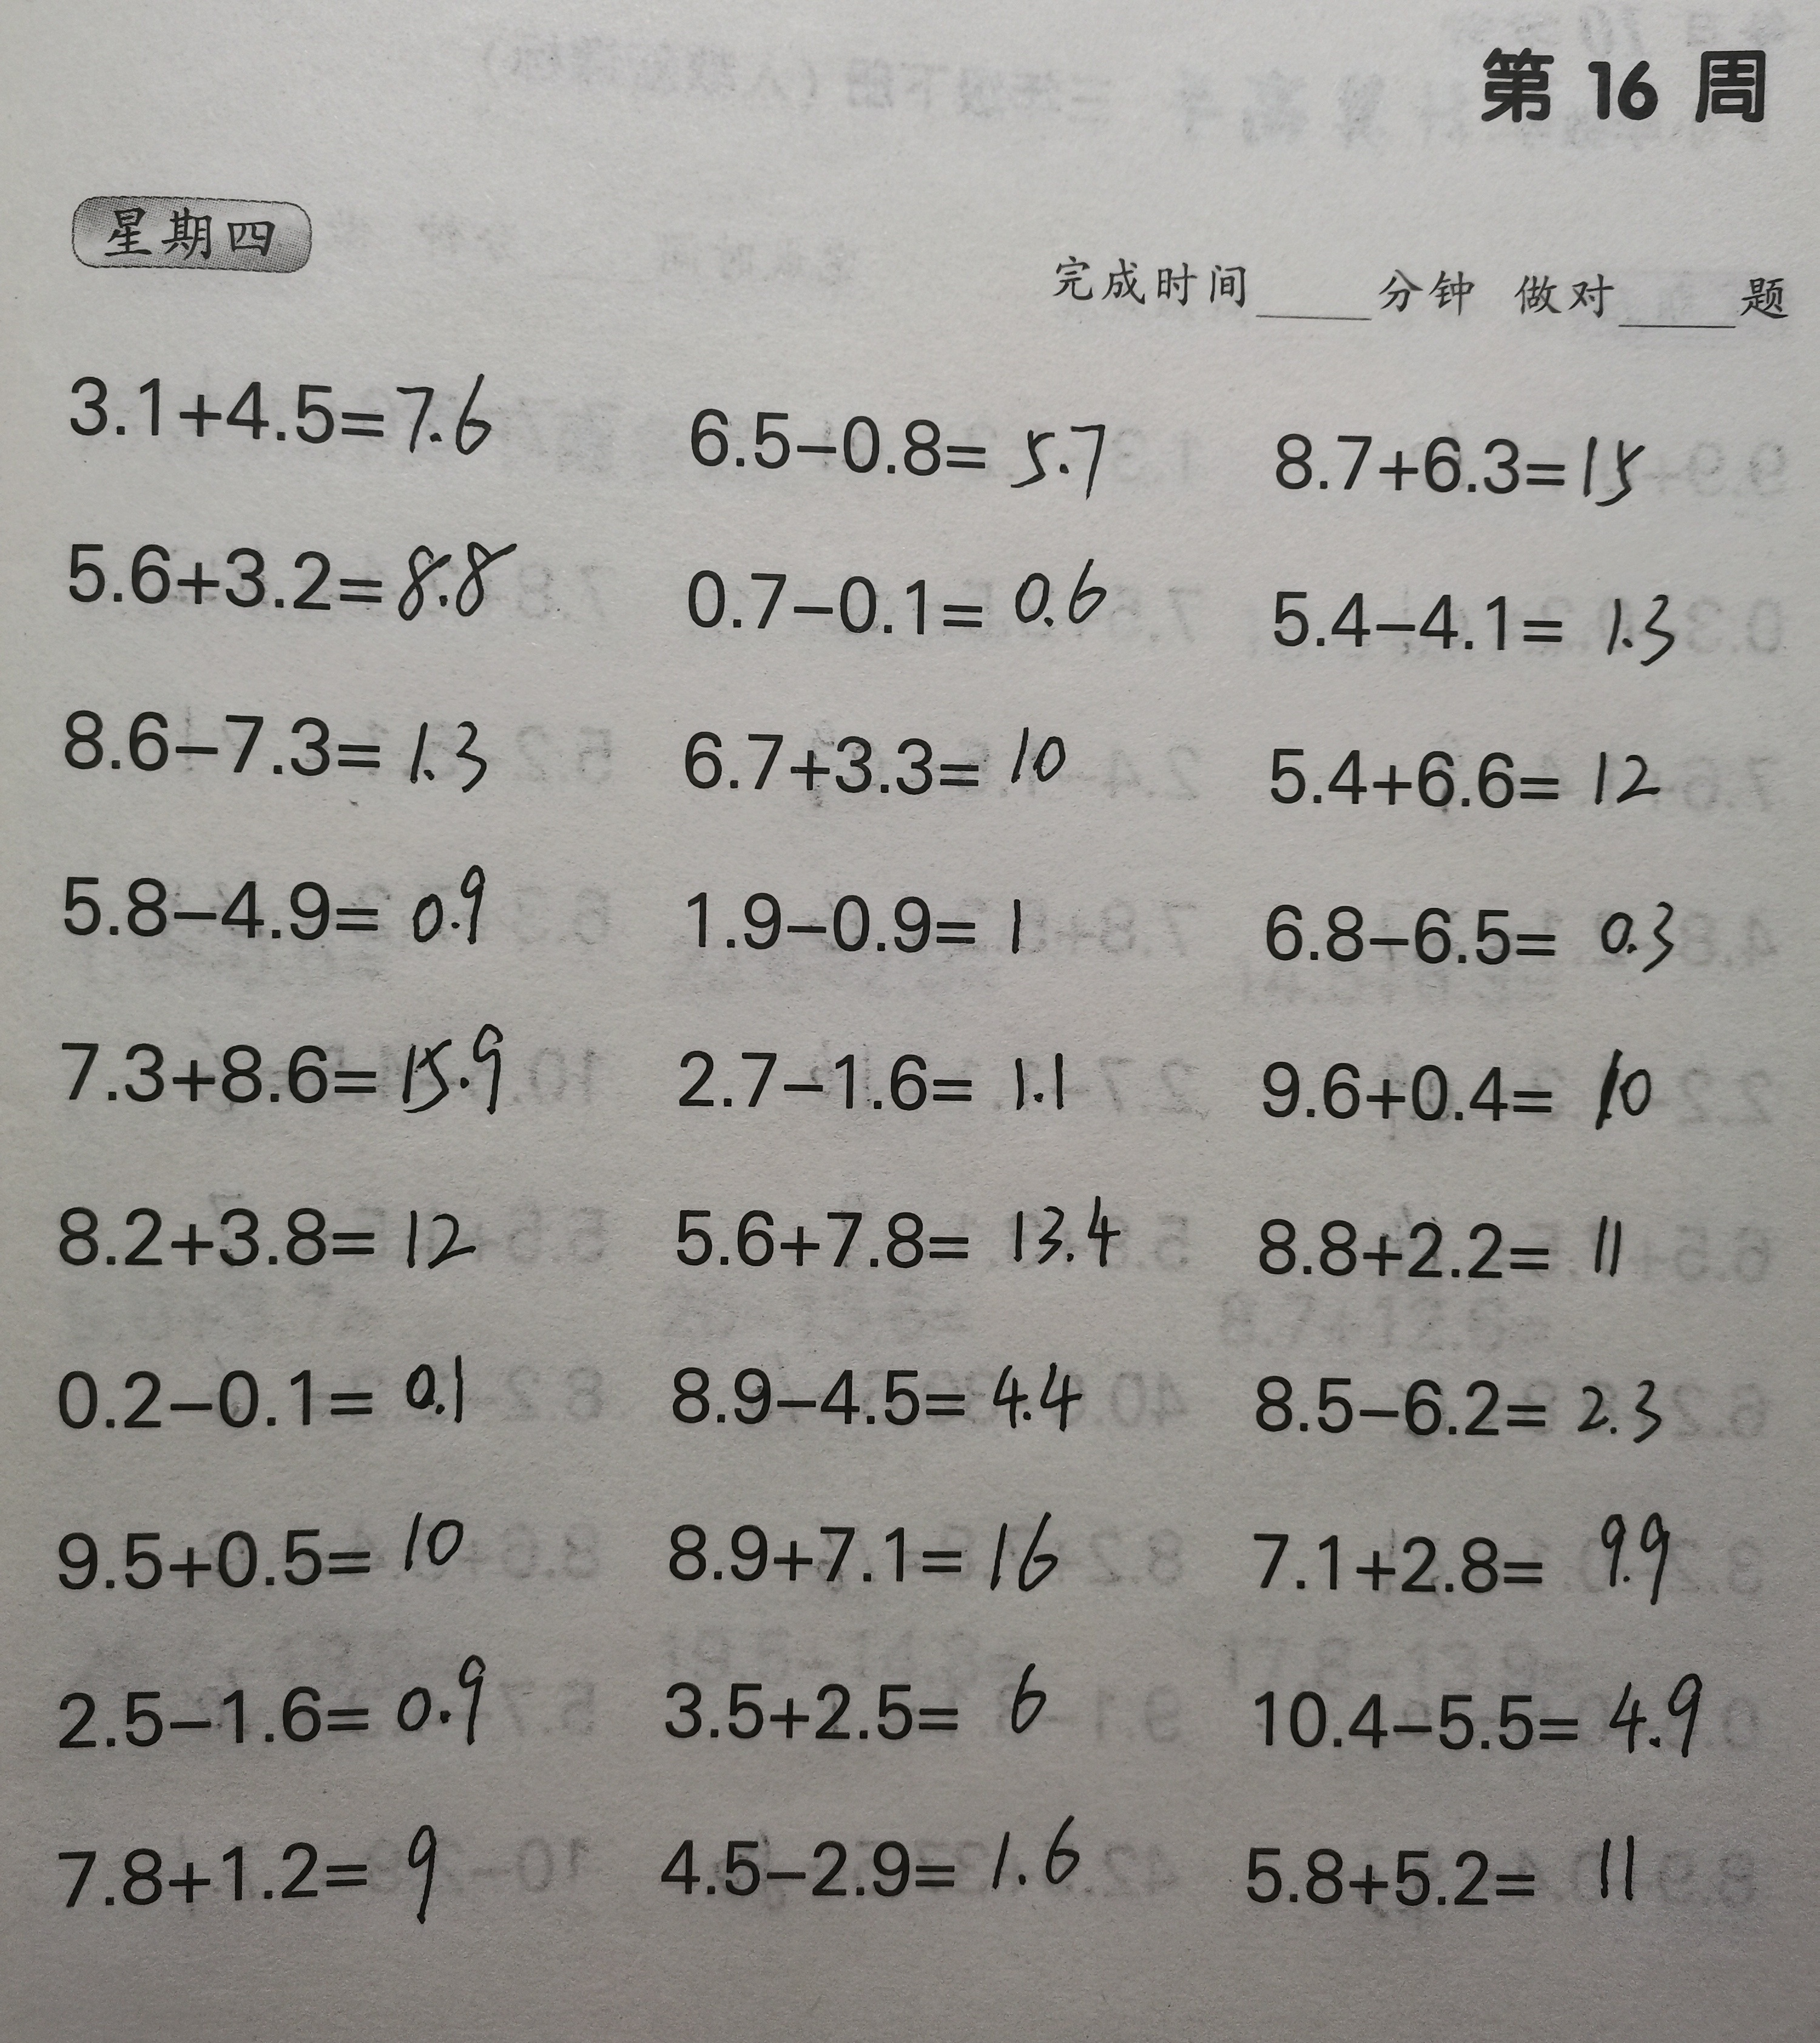equation: (1223, 1483, 1704, 1614), (641, 1794, 1107, 1929), (37, 1010, 522, 1137), (1219, 1655, 1736, 1771), (35, 341, 518, 464), (51, 506, 515, 631), (657, 1170, 1138, 1289), (44, 1809, 453, 1943), (668, 381, 1117, 502), (657, 1332, 1107, 1451), (30, 1333, 481, 1451), (1235, 1346, 1697, 1460), (643, 1493, 1089, 1611), (1260, 559, 1697, 678), (51, 689, 513, 801), (47, 841, 497, 956), (1246, 1024, 1683, 1140), (659, 1021, 1098, 1135), (44, 1642, 504, 1751), (35, 1491, 487, 1602), (643, 1637, 1077, 1751), (1254, 875, 1690, 987), (1230, 1808, 1662, 1920), (668, 545, 1131, 648), (657, 696, 1084, 808), (1258, 710, 1667, 826), (51, 1179, 485, 1284), (1258, 397, 1655, 509), (1244, 1189, 1674, 1291), (659, 861, 1044, 963)
